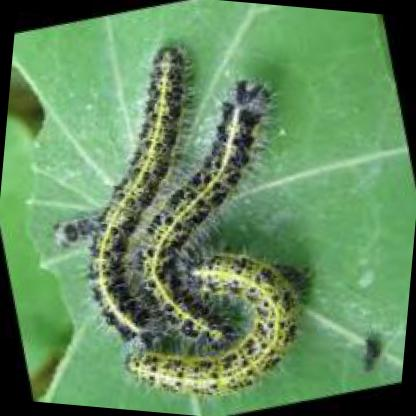pieris: (124, 78, 273, 354), (84, 41, 196, 345), (129, 250, 309, 403)
